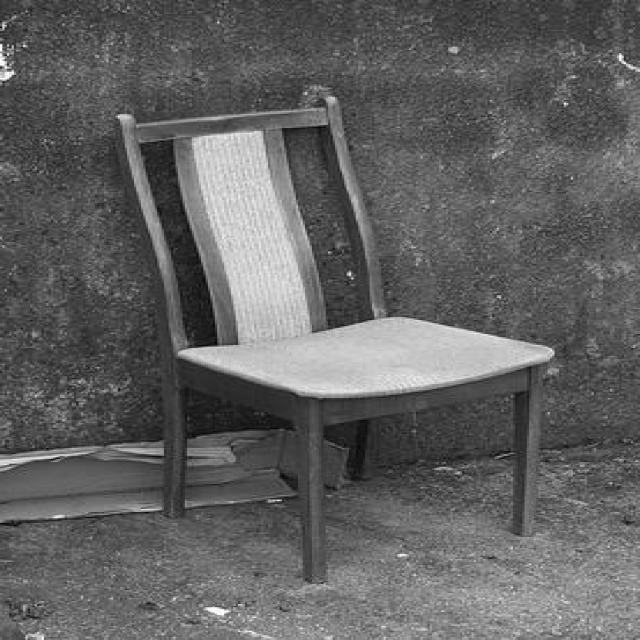chair: (83, 86, 563, 584)
